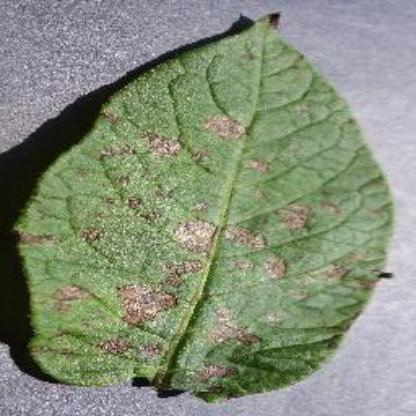Early-Blight: (11, 11, 404, 404)
